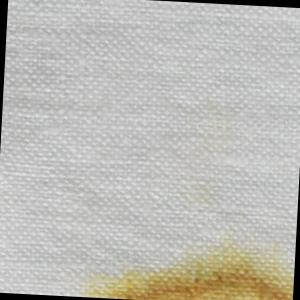Oil Stain: (76, 220, 297, 300)
